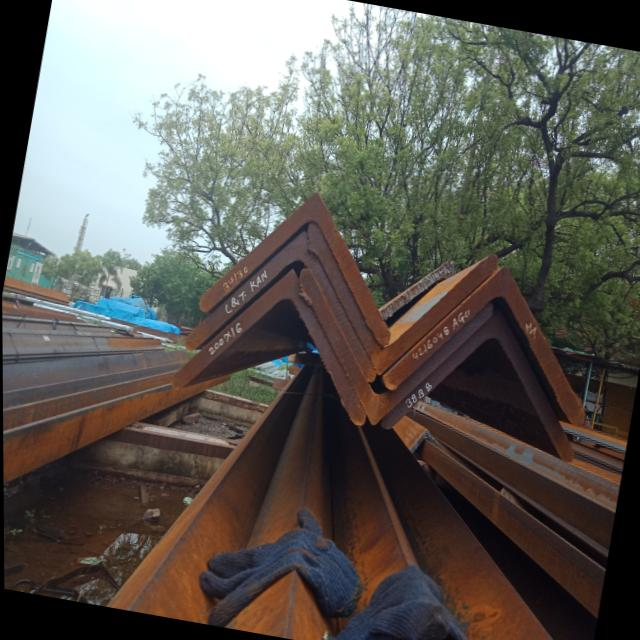metal-angles: (381, 264, 583, 426), (380, 304, 574, 463), (299, 268, 492, 425), (170, 269, 365, 424), (198, 189, 390, 345), (307, 222, 498, 375), (184, 231, 375, 382)
